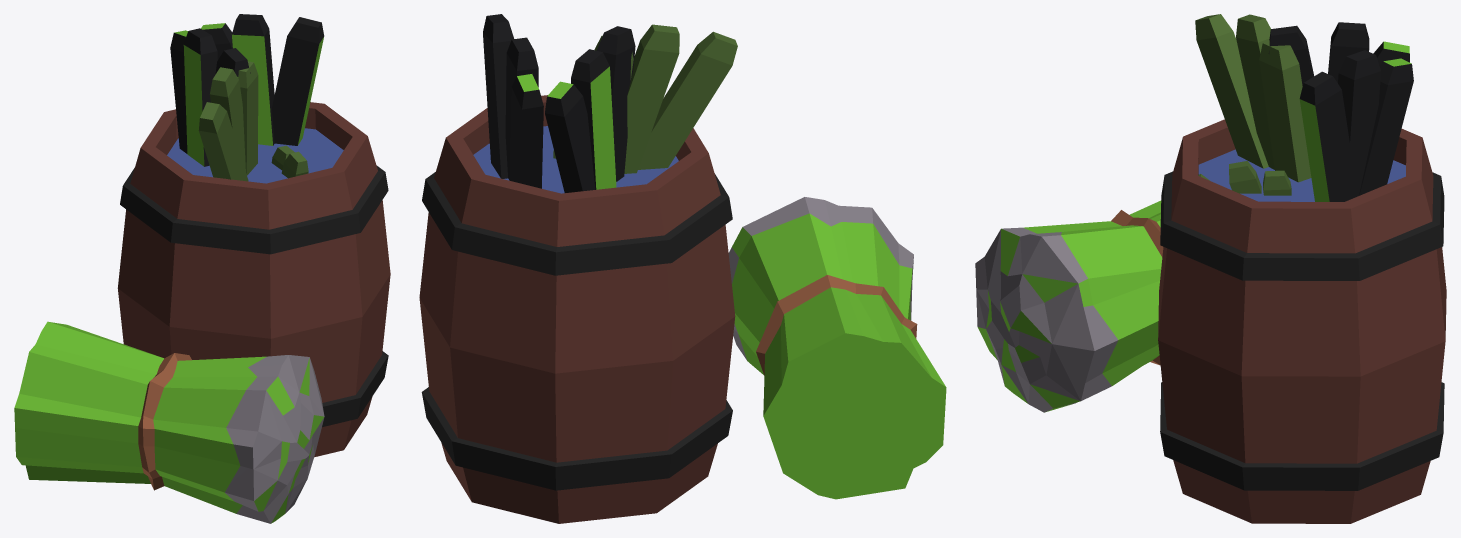
Rendered from soaking_flax_1.fbx.
3 views of the same model, side by side, from view 1: azimuth 30°, elevation 25°; view 2: azimuth 150°, elevation 25°; view 3: azimuth 270°, elevation 25° (orthographic). The views are drawn at different scales.
Parts seen in each view (by area): view 1: barrel.001, flax_resource.002, wet_flax; view 2: barrel.001, flax_resource.002, wet_flax; view 3: barrel.001, flax_resource.002, wet_flax.
Part boxes in pixels (box(x1,y1,x2,y2)): barrel.001: box(117, 102, 390, 457); flax_resource.002: box(14, 321, 324, 523); wet_flax: box(170, 14, 324, 181); barrel.001: box(419, 95, 735, 523); flax_resource.002: box(728, 197, 946, 499); wet_flax: box(483, 14, 737, 192); barrel.001: box(1158, 119, 1446, 523); flax_resource.002: box(975, 200, 1163, 412); wet_flax: box(1195, 14, 1413, 201).
Bounding box in the file's own units: 56.78 × 52.95 × 52.57.
